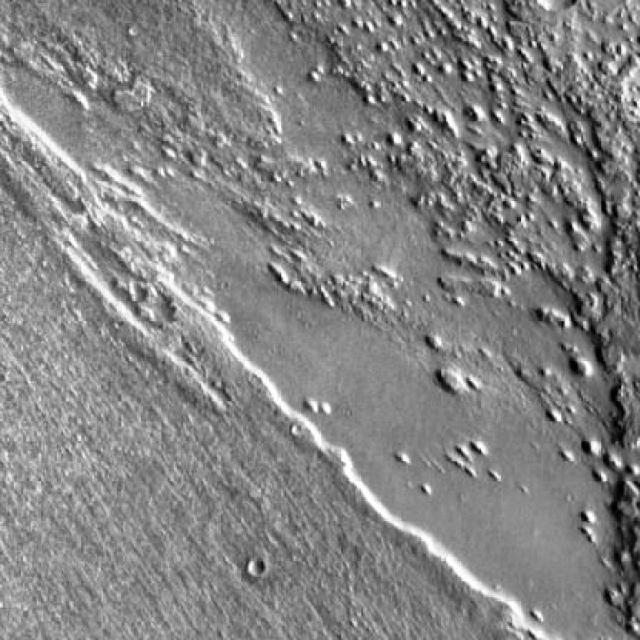crater: (246, 559, 263, 576)
